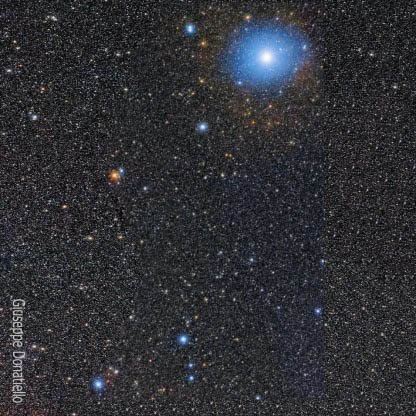Lyra: (214, 22, 314, 105), (101, 160, 135, 187), (185, 113, 210, 143), (84, 371, 112, 396), (171, 325, 193, 353), (176, 18, 199, 43)
